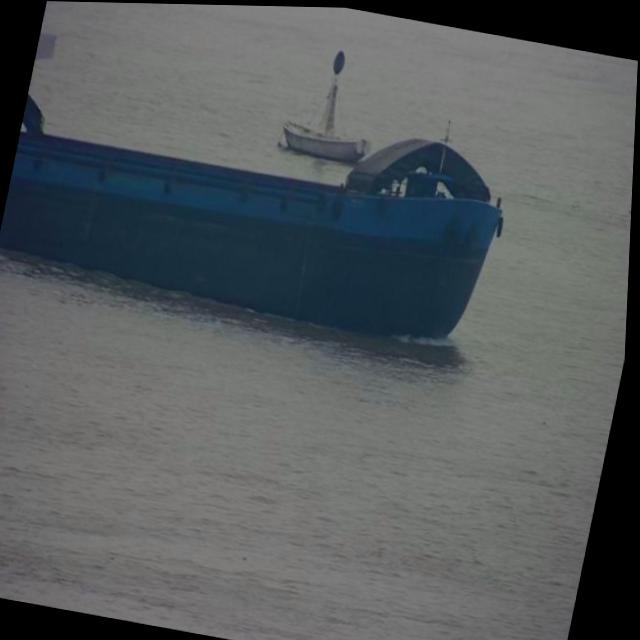ship2: (0, 124, 506, 341)
